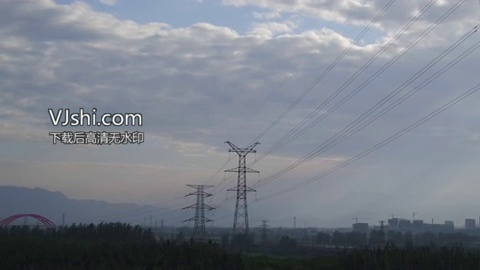tower_body: (219, 139, 267, 242), (182, 181, 218, 249)
tower_foot: (231, 218, 251, 239), (191, 227, 209, 245)
tower_head: (221, 140, 264, 156), (183, 182, 217, 197)
